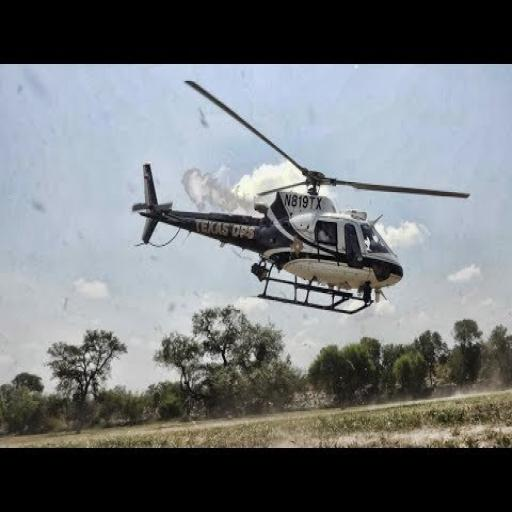helicopter: (157, 69, 448, 331)
